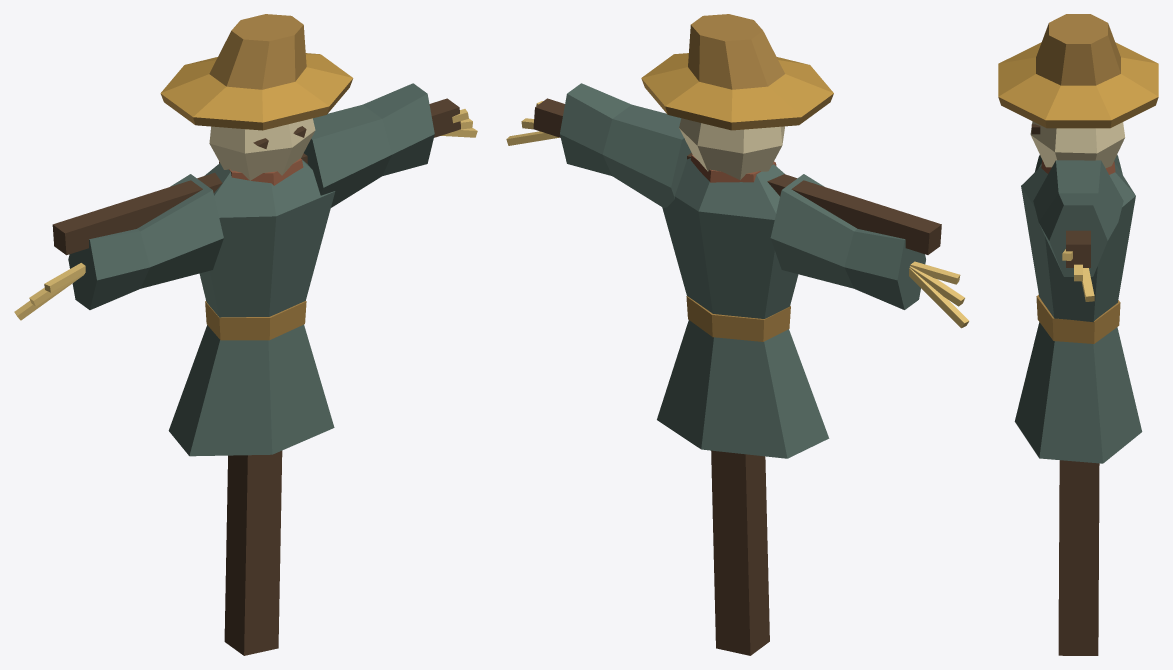
File: scarecrow.glb
The picture shows the model from 3 angles, left to right: view 1: azimuth 30°, elevation 25°; view 2: azimuth 150°, elevation 25°; view 3: azimuth 270°, elevation 25°; orthographic projection. The views are drawn at different scales.
Parts seen in each view (by area): view 1: Scarecrow; view 2: Scarecrow; view 3: Scarecrow.
Part boxes in pixels (<box>): Scarecrow: <box>14,14,477,655</box>; Scarecrow: <box>506,14,969,655</box>; Scarecrow: <box>998,14,1158,655</box>.
Bounding box in the file's own units: 1.29 × 1.65 × 0.3832.
